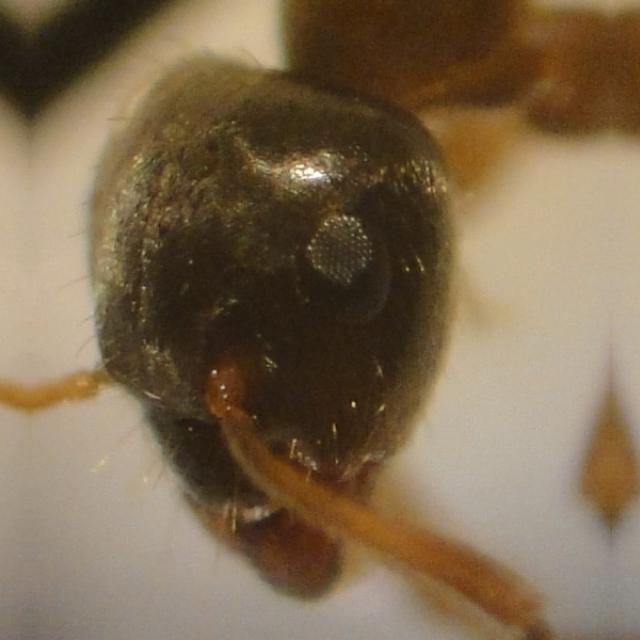Lasius: (89, 0, 584, 582)
